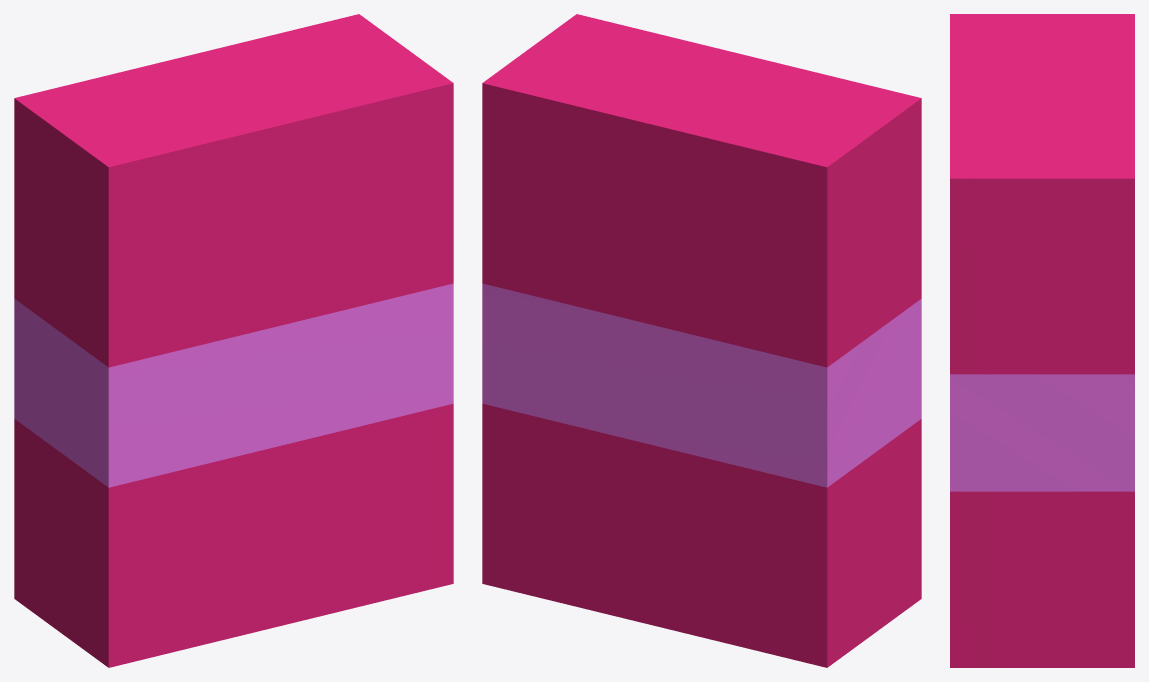
The model's file is Ürün54.fbx.
The picture shows the model from 3 angles, left to right: view 1: azimuth 30°, elevation 25°; view 2: azimuth 150°, elevation 25°; view 3: azimuth 270°, elevation 25°; orthographic projection. The views are drawn at different scales.
Visible parts, largest first — view 1: Ürün8; view 2: Ürün8; view 3: Ürün8.
Boxes of the visible parts, left/top/right/bottom form: Ürün8: left=14, top=14, right=453, bottom=667; Ürün8: left=482, top=14, right=921, bottom=667; Ürün8: left=950, top=14, right=1134, bottom=667.
Size of the model in its own units: 23.51 by 32.6 by 11.16.
